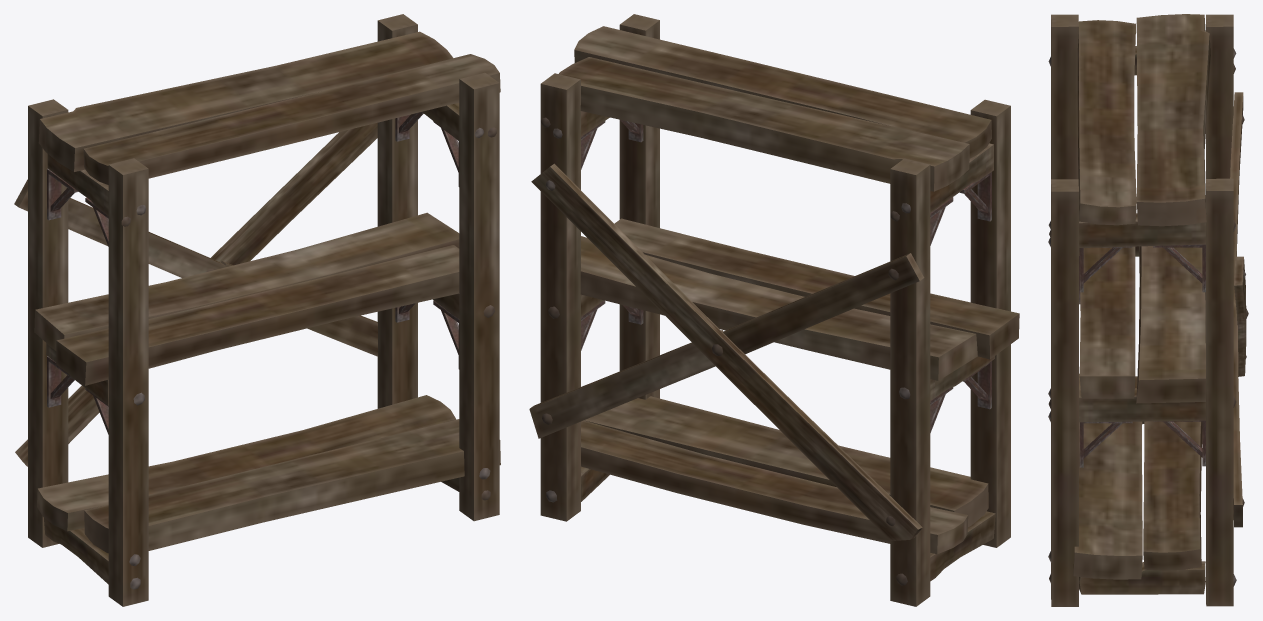
The model's file is t0_shelf_roughwood.glb.
3 views of the same model, side by side, from view 1: azimuth 30°, elevation 25°; view 2: azimuth 150°, elevation 25°; view 3: azimuth 270°, elevation 25° (orthographic). The views are drawn at different scales.
Parts seen in each view (by area): view 1: global_props_roughwood_shelf_01_a; view 2: global_props_roughwood_shelf_01_a; view 3: global_props_roughwood_shelf_01_a.
Boxes of the visible parts, x1,y1,x2,y2 form: global_props_roughwood_shelf_01_a: (14,14,500,606); global_props_roughwood_shelf_01_a: (529,14,1019,606); global_props_roughwood_shelf_01_a: (1048,14,1248,606).
Bounding box in the file's own units: 2.02 × 1.98 × 0.868.
Materials: 2 (2 with a texture image).
